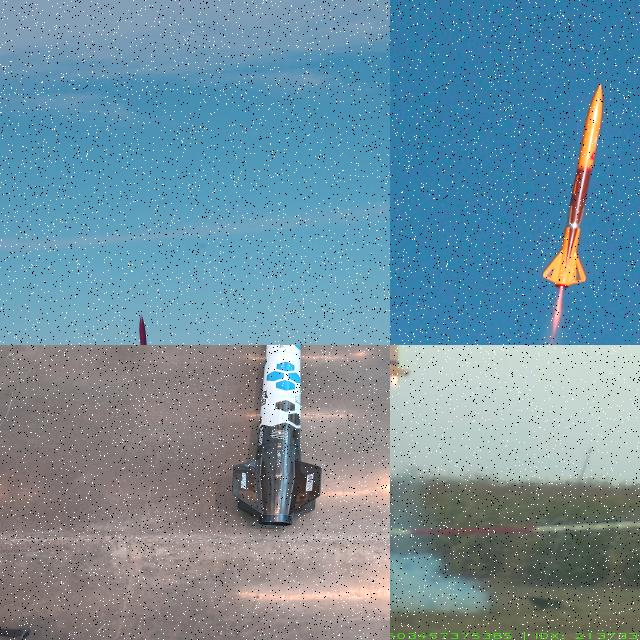Rocket: (232, 345, 322, 527), (542, 82, 604, 289), (390, 345, 411, 377), (134, 313, 154, 345)
